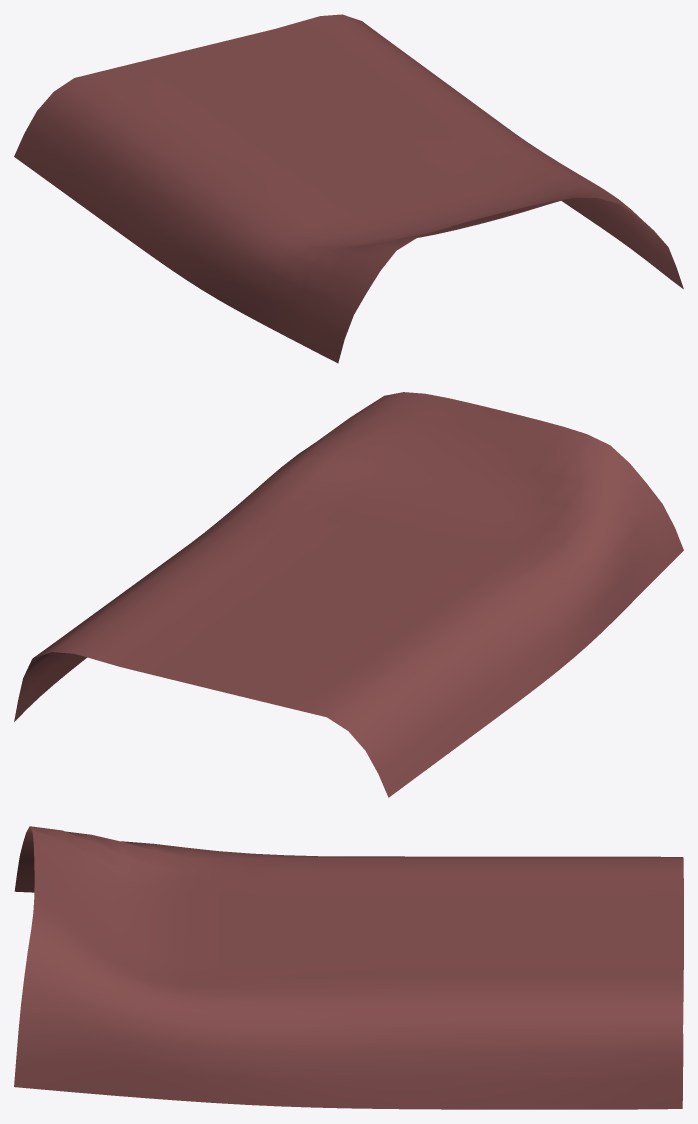
Rendered from Sheet_low.fbx.
3 renders of one model, top to bottom at view 1: azimuth 30°, elevation 25°; view 2: azimuth 150°, elevation 25°; view 3: azimuth 270°, elevation 25°, orthographic. The views are drawn at different scales.
Visible parts, largest first — view 1: Sheet_low; view 2: Sheet_low; view 3: Sheet_low.
Boxes of the visible parts, x1,y1,x2,y2 form: Sheet_low: [14, 14, 683, 363]; Sheet_low: [14, 392, 683, 797]; Sheet_low: [14, 826, 683, 1109].
Bounding box in the file's own units: 131 × 43.57 × 185.
